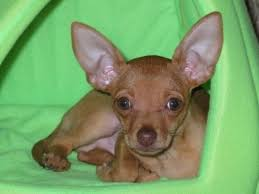chihuahua: (27, 10, 240, 192)
